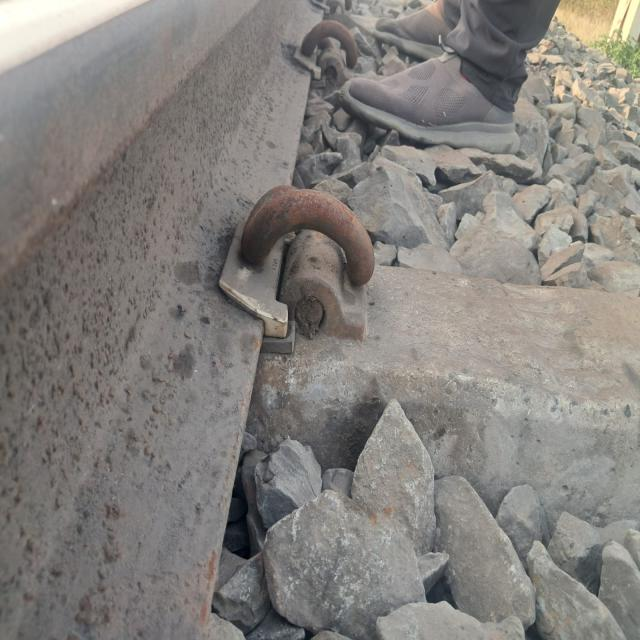correct: (227, 162, 413, 352)
